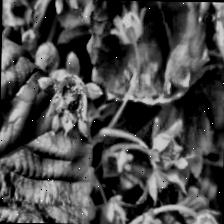Blossom Blight: (49, 72, 88, 128)
